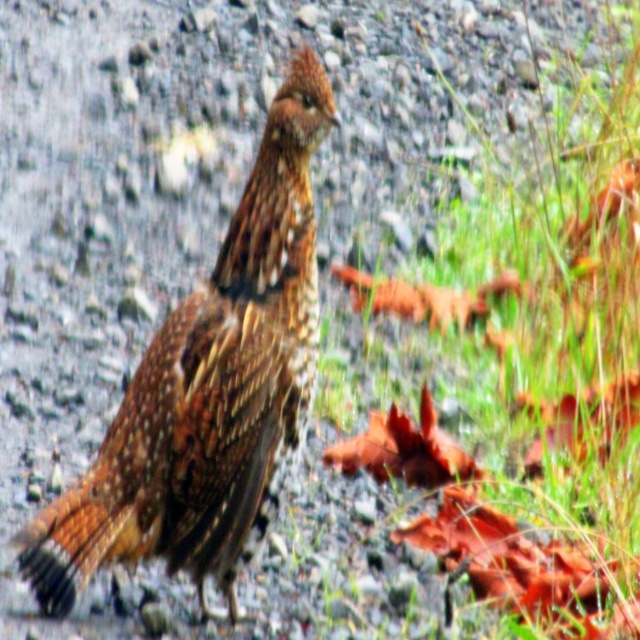Chicken: (6, 40, 341, 629)
